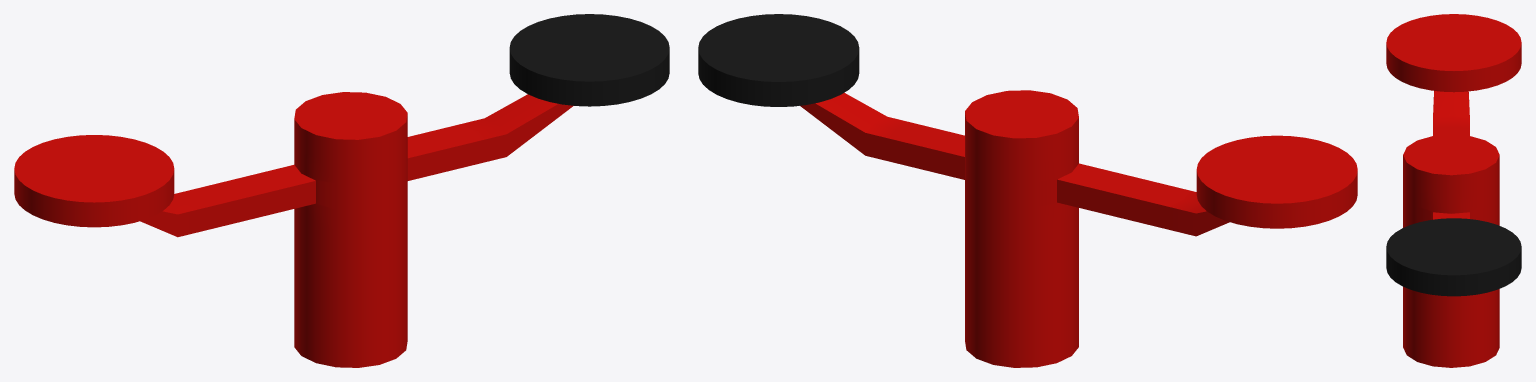
File: Waage 1.fbx
3 views of the same model, side by side, from view 1: azimuth 30°, elevation 25°; view 2: azimuth 150°, elevation 25°; view 3: azimuth 270°, elevation 25° (orthographic). The views are drawn at different scales.
Parts seen in each view (by area): view 1: Cylinder, CylinderRight, Cylinderleft; view 2: Cylinder, Cylinderleft, CylinderRight; view 3: Cylinder, CylinderRight, Cylinderleft.
Part boxes in pixels (x1,y1,x2,y2): Cylinder: [140, 92, 573, 367]; CylinderRight: [509, 14, 669, 106]; Cylinderleft: [14, 135, 174, 227]; Cylinder: [800, 90, 1229, 367]; Cylinderleft: [1196, 135, 1357, 228]; CylinderRight: [698, 14, 859, 106]; Cylinder: [1403, 91, 1499, 367]; CylinderRight: [1386, 218, 1521, 296]; Cylinderleft: [1386, 14, 1521, 92].
Size of the model in its own units: 640 by 228 by 140.
